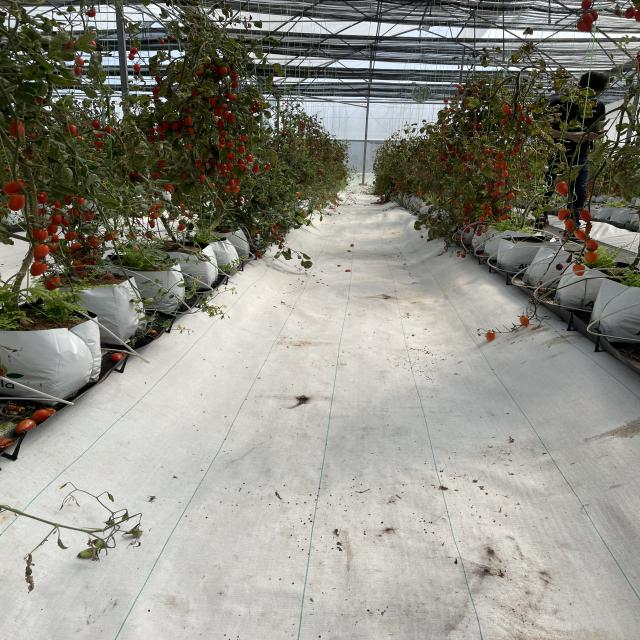Soilbag: (0, 302, 109, 404), (30, 275, 150, 338)
plant: (1, 8, 65, 324)
